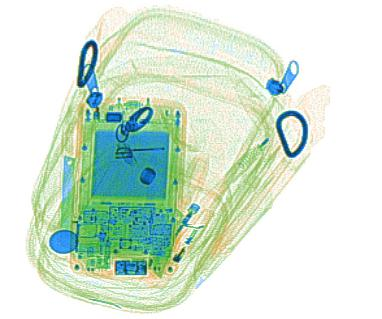knife: (58, 154, 77, 251)
lighter: (145, 200, 213, 285)
